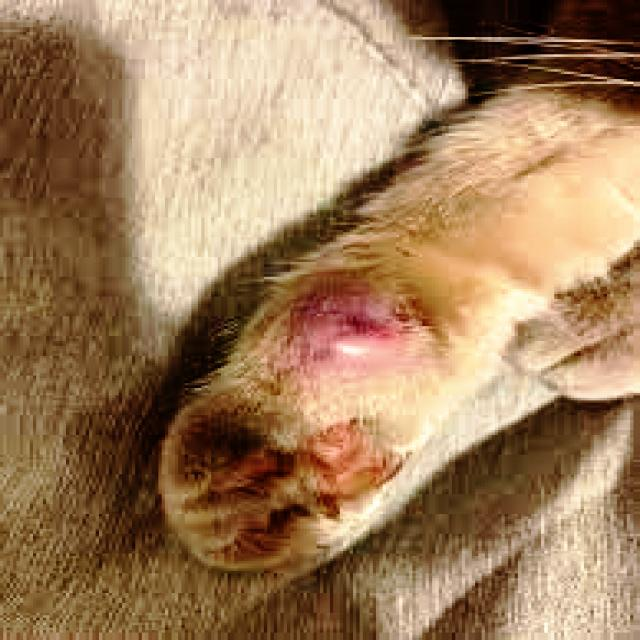lump_and_bump: (290, 294, 416, 361)
